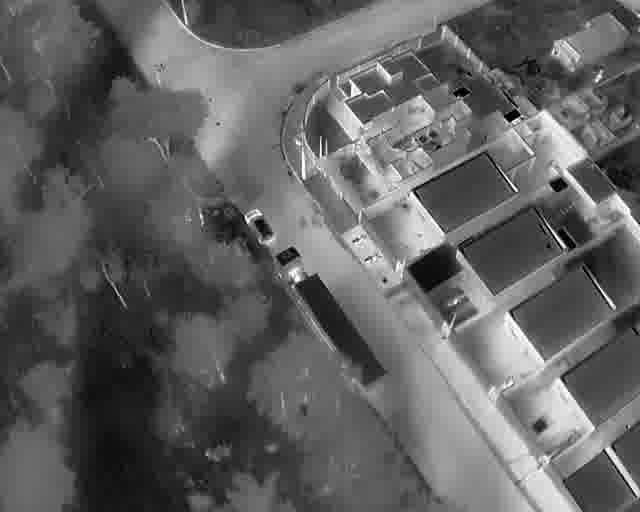car: (243, 209, 275, 244), (529, 414, 550, 437)
truck: (274, 245, 389, 389)
